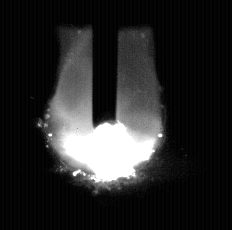arame: (92, 0, 118, 128)
poca: (44, 0, 165, 230)
